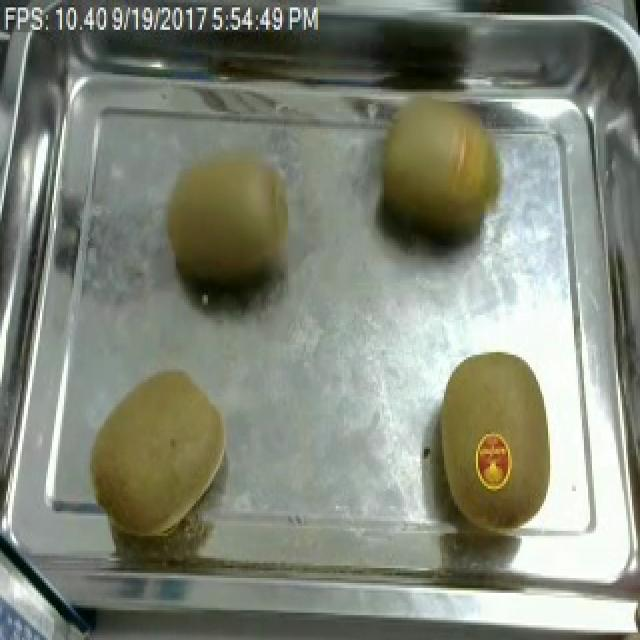Fruit: (356, 79, 520, 258), (80, 362, 238, 546), (152, 137, 312, 310), (462, 397, 542, 506), (468, 424, 522, 501)
